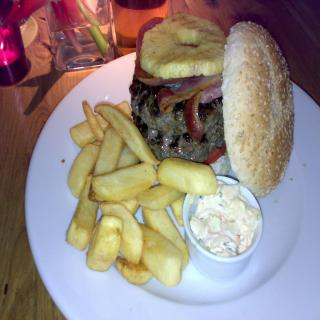French fries: (67, 86, 183, 282)
Hamburger: (128, 10, 296, 198)
